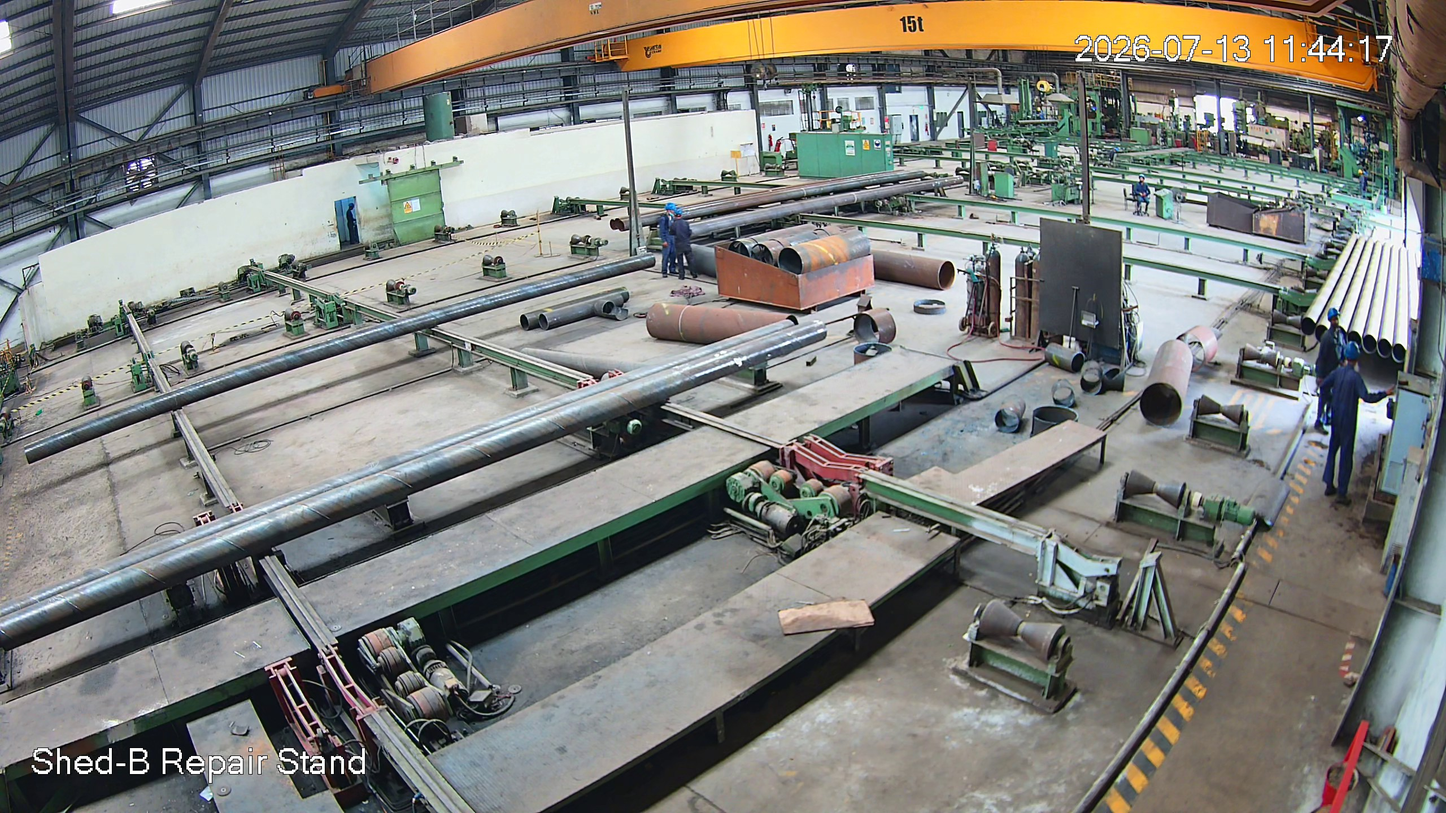Helmet: (1339, 338, 1364, 376)
Person: (1325, 343, 1373, 506)
